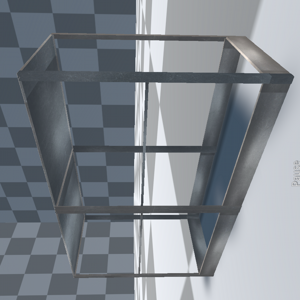Rack: (5, 21, 284, 268)
